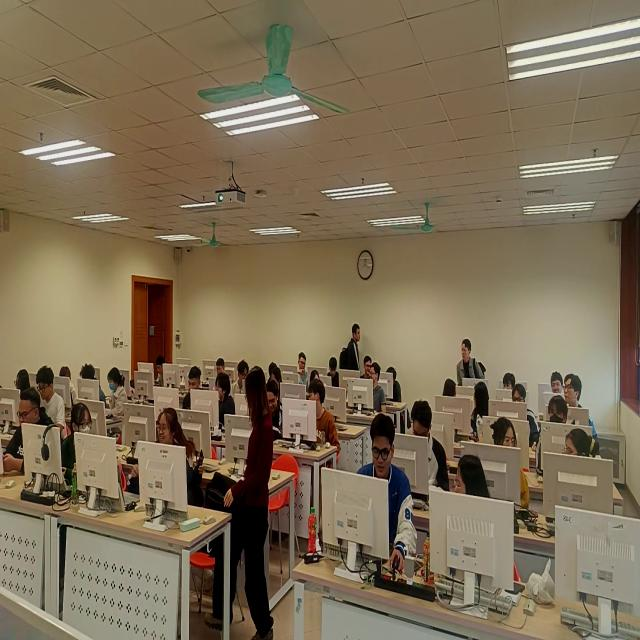raise_head: (536, 396, 568, 477), (552, 372, 564, 394), (504, 373, 517, 391)
stand: (206, 367, 278, 640), (457, 339, 487, 387), (340, 324, 363, 379)
using_computer: (358, 414, 418, 573), (411, 400, 451, 493), (37, 366, 68, 436), (512, 385, 541, 452), (81, 364, 108, 410), (107, 368, 129, 421), (266, 381, 284, 440), (183, 367, 203, 412), (15, 369, 32, 399), (155, 356, 168, 387), (328, 358, 340, 388), (272, 367, 283, 387), (217, 359, 226, 376)
using_phone: (3, 388, 58, 474)
